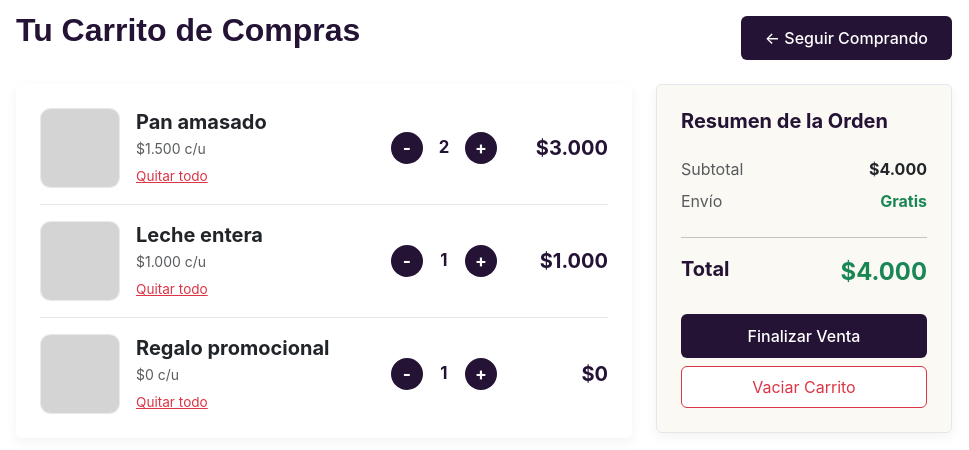
Pruebas unitarias para Carrito de Compras › elimina un producto por completo al presionar "Quitar todo"
Note: Eliminamos el Pan (índice 0)
Click the button "Quitar todo" below "1.500" at (172, 176), box [136,166,208,186]
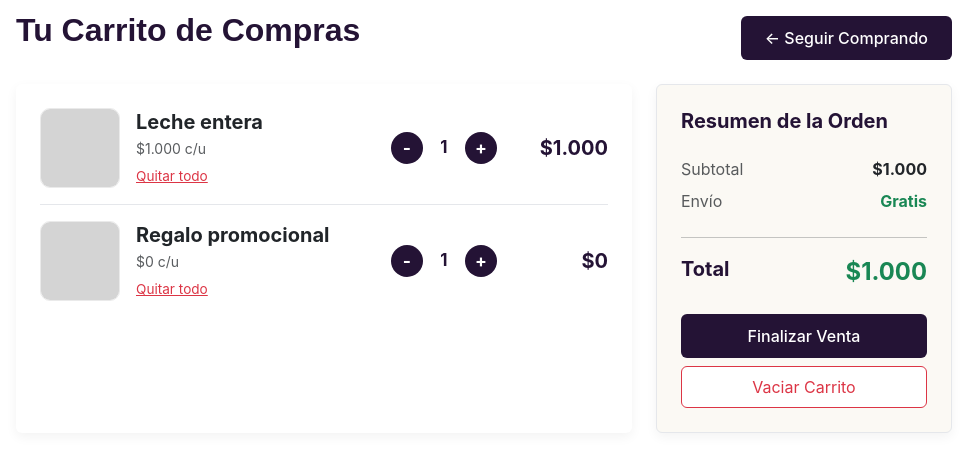
Result: the heading "Pan amasado" is gone
